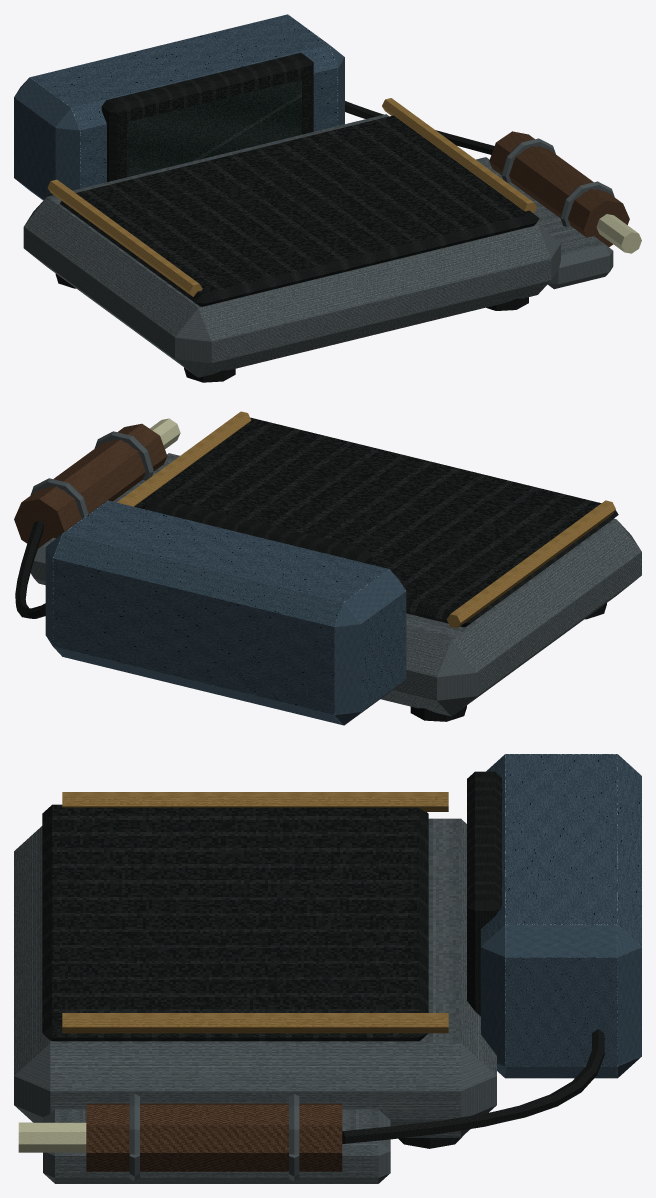
The model's file is blender_object_imprint_scanner_1.glb.
The picture shows the model from 3 angles, top to bottom: view 1: azimuth 30°, elevation 25°; view 2: azimuth 150°, elevation 25°; view 3: azimuth 270°, elevation 25°; orthographic projection. The views are drawn at different scales.
Parts seen in each view (by area): view 1: blender_object_imprint_scanner_1; view 2: blender_object_imprint_scanner_1; view 3: blender_object_imprint_scanner_1.
Boxes of the visible parts, box(x1,y1,x2,y2) form: blender_object_imprint_scanner_1: box(14, 14, 641, 382); blender_object_imprint_scanner_1: box(14, 411, 641, 725); blender_object_imprint_scanner_1: box(14, 754, 641, 1183).
Size of the model in its own units: 0.1839 by 0.055 by 0.156.
7 materials, 7 textured.
